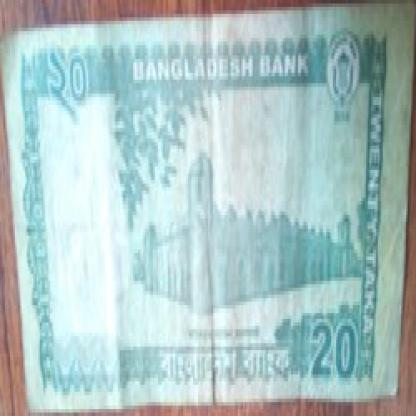Twenty: (34, 38, 112, 135), (300, 298, 376, 388)
